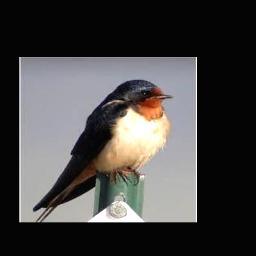Swallow: (32, 79, 173, 222)
